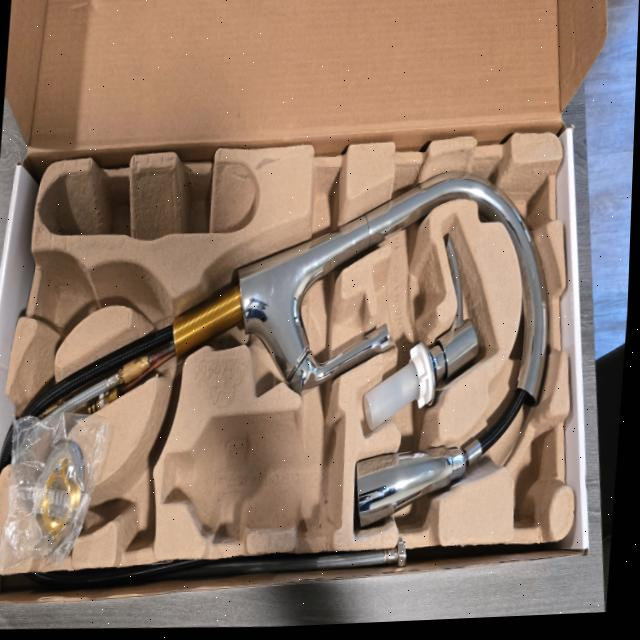1: (0, 168, 550, 527)
2: (363, 226, 482, 435)
3m: (161, 414, 342, 534)
4m: (37, 161, 258, 240)
5m: (42, 260, 93, 330)
6: (0, 404, 113, 573)
7m: (99, 436, 155, 550)
